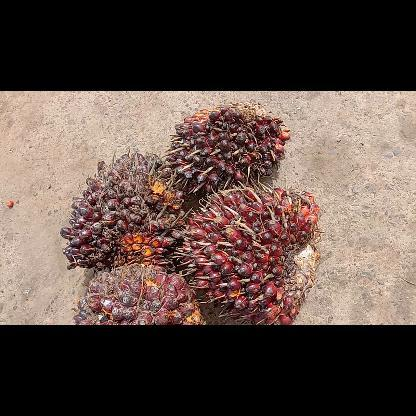Kurang masak: (173, 178, 323, 324), (58, 148, 188, 270)
TBS mentah: (158, 98, 291, 193), (71, 260, 205, 324)
